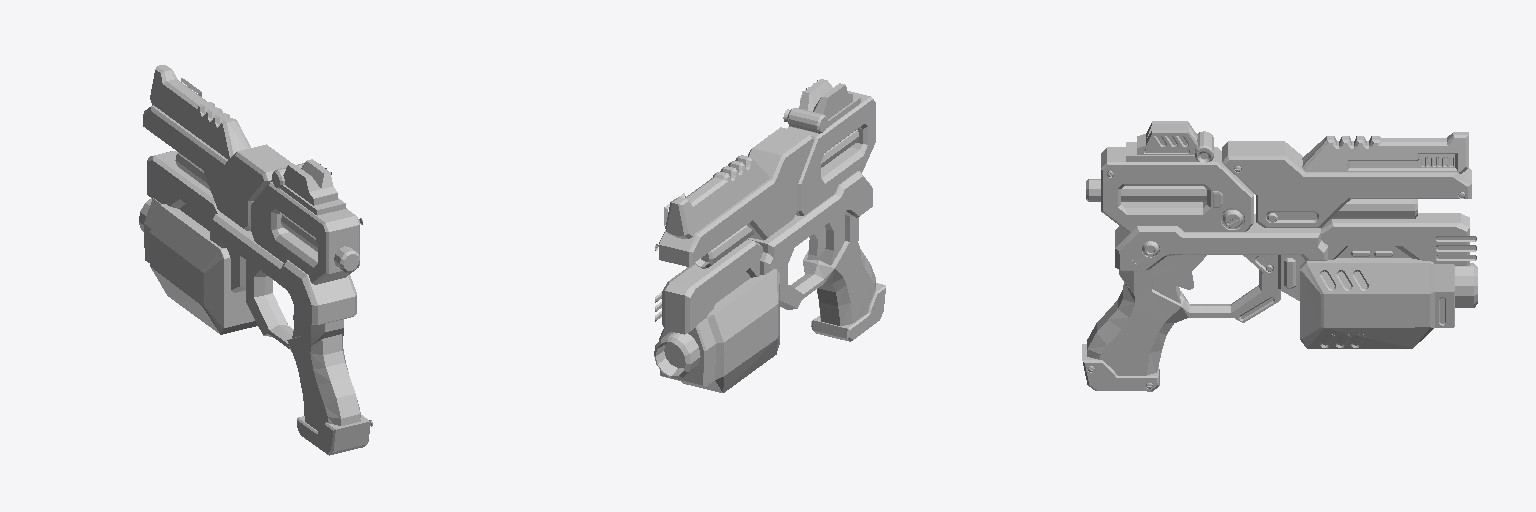
Rendered from Scifigun.obj.
3 renders of one model, left to right at view 1: azimuth 30°, elevation 25°; view 2: azimuth 150°, elevation 25°; view 3: azimuth 270°, elevation 25°, orthographic.
Visible parts, largest first — view 1: ScifiGun; view 2: ScifiGun; view 3: ScifiGun.
Boxes of the visible parts, <box> form: ScifiGun: <box>139,65,372,455</box>; ScifiGun: <box>654,79,885,392</box>; ScifiGun: <box>1082,121,1477,391</box>.
Bounding box in the file's own units: 0.0399 × 0.1526 × 0.2139.